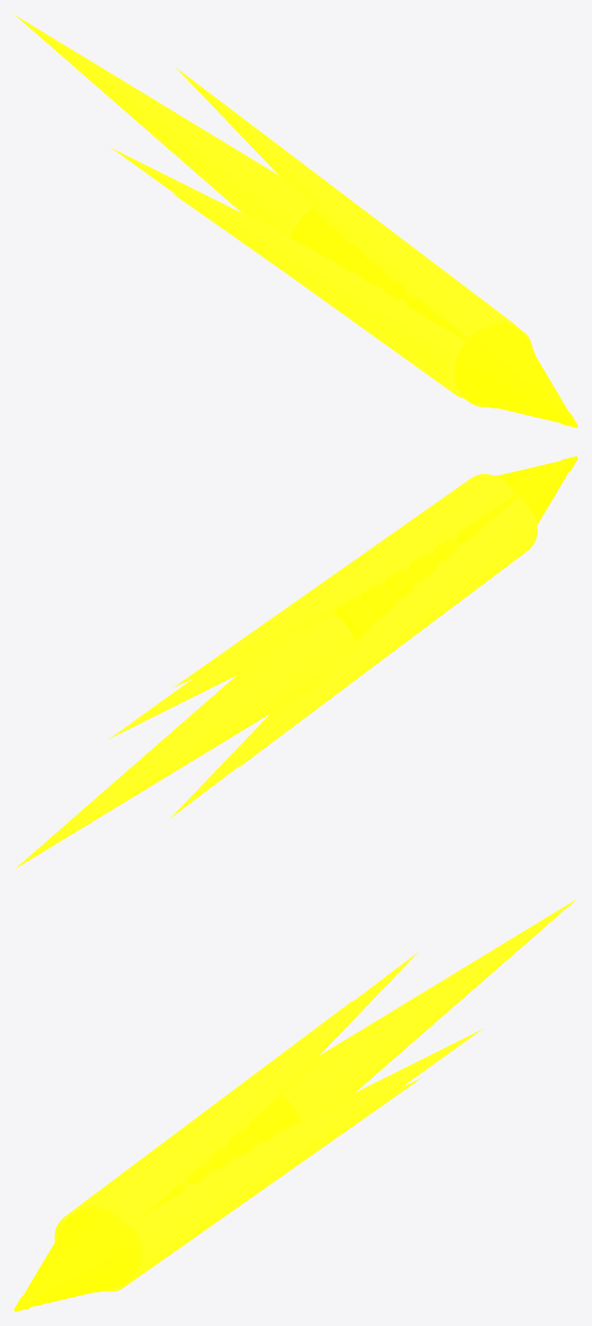
3 renders of one model, top to bottom at view 1: azimuth 30°, elevation 25°; view 2: azimuth 150°, elevation 25°; view 3: azimuth 330°, elevation 25°, orthographic.
Parts seen in each view (by area): view 1: FlakBullet, AutoBullet; view 2: FlakBullet, AutoBullet; view 3: FlakBullet, AutoBullet.
Part boxes in pixels (left/top/right/bottom): FlakBullet: left=16, top=16, right=577, bottom=427; AutoBullet: left=14, top=14, right=311, bottom=236; FlakBullet: left=15, top=456, right=577, bottom=868; AutoBullet: left=15, top=614, right=354, bottom=868; FlakBullet: left=14, top=900, right=575, bottom=1311; AutoBullet: left=282, top=899, right=576, bottom=1119.
Size of the model in its own units: 1.69 by 1.64 by 12.97.
